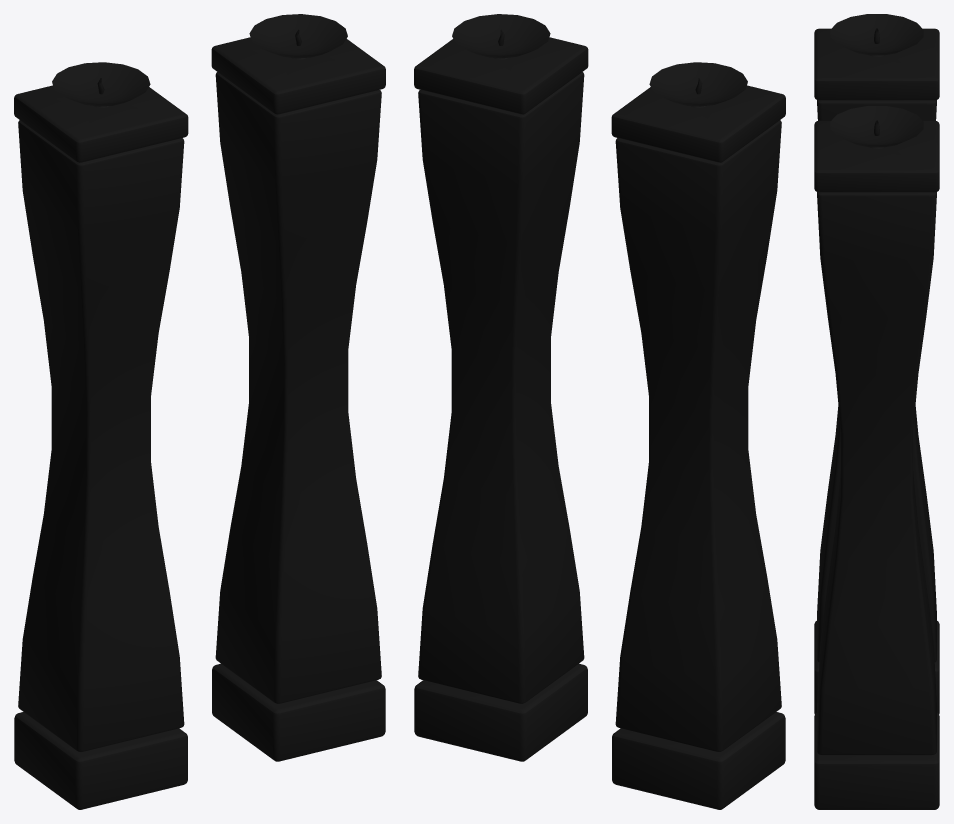
The model's file is Vase3-living.FBX.
The picture shows the model from 3 angles, left to right: view 1: azimuth 30°, elevation 25°; view 2: azimuth 150°, elevation 25°; view 3: azimuth 270°, elevation 25°; orthographic projection. The views are drawn at different scales.
Parts seen in each view (by area): view 1: putong025; view 2: putong025; view 3: putong025.
Boxes of the visible parts, bbox=[...] form: putong025: bbox=[14, 14, 385, 809]; putong025: bbox=[414, 14, 785, 809]; putong025: bbox=[814, 14, 939, 809].
Bounding box in the file's own units: 20.61 × 44.37 × 7.57.
